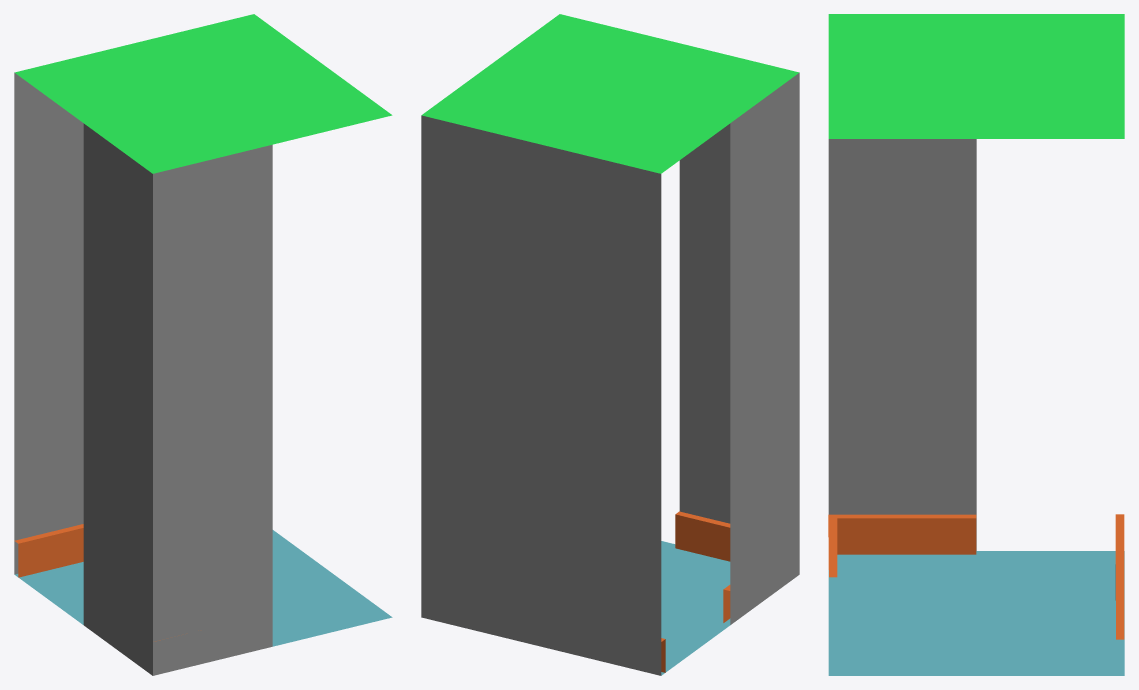
File: ModuleD_quarters.FBX
3 views of the same model, side by side, from view 1: azimuth 30°, elevation 25°; view 2: azimuth 150°, elevation 25°; view 3: azimuth 270°, elevation 25° (orthographic). The views are drawn at different scales.
Visible parts, largest first — view 1: ModuleD_wall_03, ModuleD_wall_02, ModuleD_quarter, ModuleD_wall_01, ModuleD_floor02, ModuleD_skboard_01, ModuleD_floor00, ModuleD_floor03; view 2: ModuleD_wall_00, ModuleD_wall_01, ModuleD_wall_02, ModuleD_quarter, ModuleD_wall_03, ModuleD_floor01, ModuleD_floor00, ModuleD_skboard_03; view 3: ModuleD_wall_02, ModuleD_quarter, ModuleD_floor02, ModuleD_floor03, ModuleD_floor00, ModuleD_floor01, ModuleD_skboard_02, ModuleD_skboard_01, ModuleD_skboard_03, ModuleD_skboard_00.
Boxes of the visible parts, left/top/right/bottom form: ModuleD_wall_03: left=153, top=144, right=272, bottom=675; ModuleD_wall_02: left=83, top=123, right=152, bottom=675; ModuleD_quarter: left=14, top=14, right=392, bottom=173; ModuleD_wall_01: left=14, top=73, right=83, bottom=574; ModuleD_floor02: left=272, top=567, right=392, bottom=646; ModuleD_skboard_01: left=14, top=524, right=83, bottom=577; ModuleD_floor00: left=15, top=562, right=83, bottom=624; ModuleD_floor03: left=272, top=530, right=322, bottom=578; ModuleD_wall_00: left=421, top=115, right=541, bottom=646; ModuleD_wall_01: left=541, top=144, right=661, bottom=675; ModuleD_wall_02: left=730, top=73, right=799, bottom=624; ModuleD_quarter: left=421, top=14, right=799, bottom=173; ModuleD_wall_03: left=679, top=123, right=730, bottom=523; ModuleD_floor01: left=661, top=548, right=730, bottom=624; ModuleD_floor00: left=661, top=608, right=729, bottom=675; ModuleD_skboard_03: left=675, top=511, right=730, bottom=561; ModuleD_wall_02: left=828, top=139, right=976, bottom=550; ModuleD_quarter: left=828, top=14, right=1124, bottom=138; ModuleD_floor02: left=828, top=613, right=976, bottom=675; ModuleD_floor03: left=976, top=613, right=1124, bottom=675; ModuleD_floor00: left=976, top=551, right=1124, bottom=613; ModuleD_floor01: left=828, top=551, right=976, bottom=613; ModuleD_skboard_02: left=829, top=514, right=976, bottom=554; ModuleD_skboard_01: left=1115, top=514, right=1124, bottom=600; ModuleD_skboard_03: left=828, top=515, right=837, bottom=577; ModuleD_skboard_00: left=1116, top=577, right=1124, bottom=639.
Bounding box in the file's own units: 39.41 × 39.41 × 78.74.
